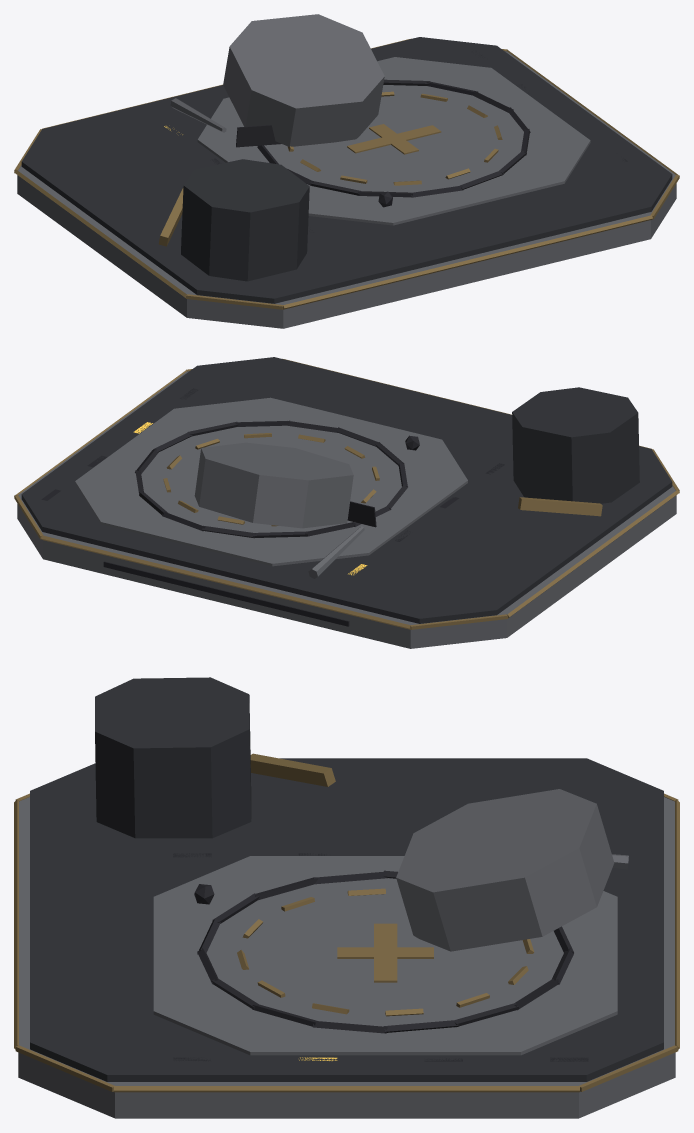
The model's file is Wreck_Aegis_Airfield.fbx.
The picture shows the model from 3 angles, top to bottom: view 1: azimuth 30°, elevation 25°; view 2: azimuth 150°, elevation 25°; view 3: azimuth 270°, elevation 25°; orthographic projection. The views are drawn at different scales.
Parts seen in each view (by area): view 1: Wreck_Aegis_Airfield; view 2: Wreck_Aegis_Airfield; view 3: Wreck_Aegis_Airfield.
Part boxes in pixels (x1,y1,x2,y2): Wreck_Aegis_Airfield: [14, 14, 679, 328]; Wreck_Aegis_Airfield: [14, 357, 679, 648]; Wreck_Aegis_Airfield: [14, 677, 679, 1118].
Size of the model in its own units: 4.05 by 0.8503 by 3.45.
